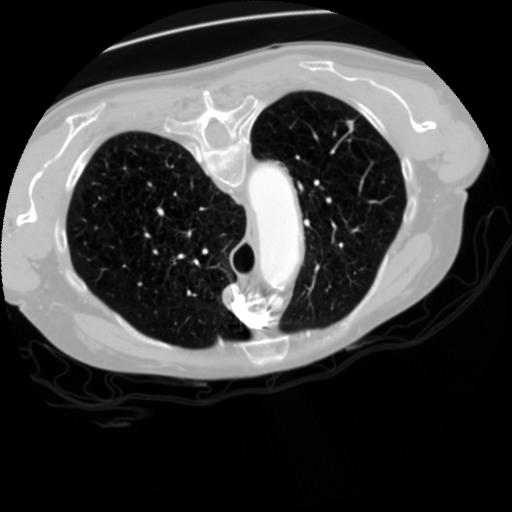nodule: (342, 118, 360, 136)
